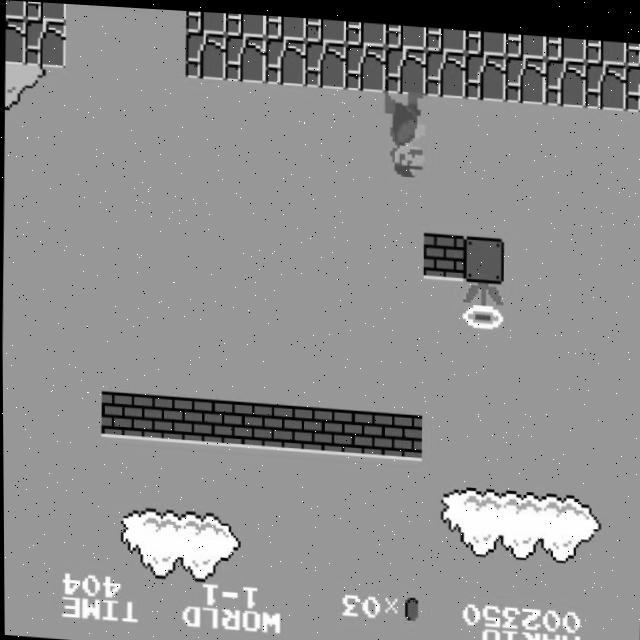0- big_mario: (382, 84, 428, 181)
1- brick_block: (422, 227, 464, 276), (380, 408, 422, 456), (340, 405, 382, 453), (300, 402, 342, 450), (260, 400, 302, 448), (220, 397, 262, 445), (180, 395, 222, 443), (140, 392, 182, 440), (100, 390, 142, 437)
17- undestructible_block: (584, 54, 626, 103), (544, 51, 586, 100), (504, 49, 546, 98), (464, 47, 506, 96), (424, 44, 466, 93), (384, 41, 426, 90), (304, 36, 346, 85), (264, 34, 306, 83), (224, 31, 266, 80), (184, 29, 226, 78), (24, 18, 66, 67), (344, 39, 386, 87), (585, 32, 626, 58), (545, 29, 586, 55), (465, 24, 506, 50), (425, 21, 466, 47), (385, 19, 426, 45), (345, 16, 386, 42), (505, 27, 546, 52), (305, 14, 346, 39), (265, 12, 306, 37), (5, 17, 26, 64), (225, 10, 266, 34), (185, 9, 226, 32), (25, 1, 66, 21), (624, 57, 640, 104), (625, 34, 640, 58), (5, 0, 25, 18)
3- empty_block: (462, 229, 504, 278)
6- flower: (462, 275, 506, 326)
